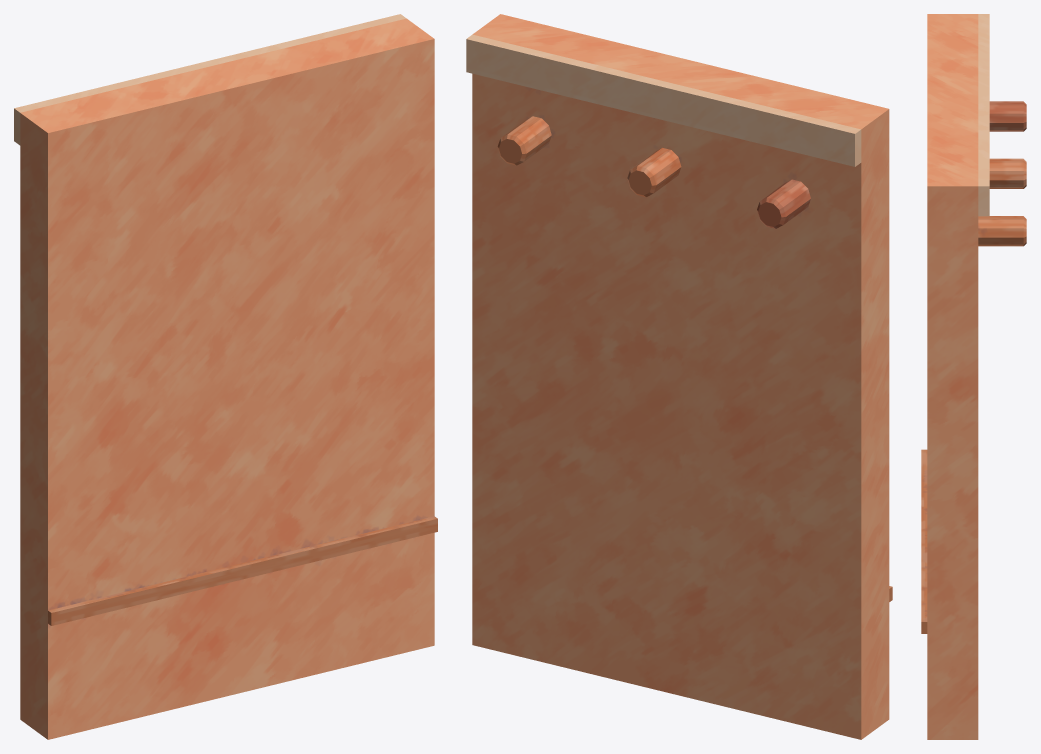
The model's file is wall2_upper.fbx.
3 views of the same model, side by side, from view 1: azimuth 30°, elevation 25°; view 2: azimuth 150°, elevation 25°; view 3: azimuth 270°, elevation 25° (orthographic). The views are drawn at different scales.
Visible parts, largest first — view 1: wall2_upper; view 2: wall2_upper; view 3: wall2_upper.
Part boxes in pixels (x1=…): wall2_upper: x1=14, y1=14, x2=437, y2=739; wall2_upper: x1=466, y1=14, x2=892, y2=739; wall2_upper: x1=921, y1=14, x2=1026, y2=739.
Size of the model in its own units: 8 by 12 by 2.07.
Materials: 1 (1 with a texture image).
